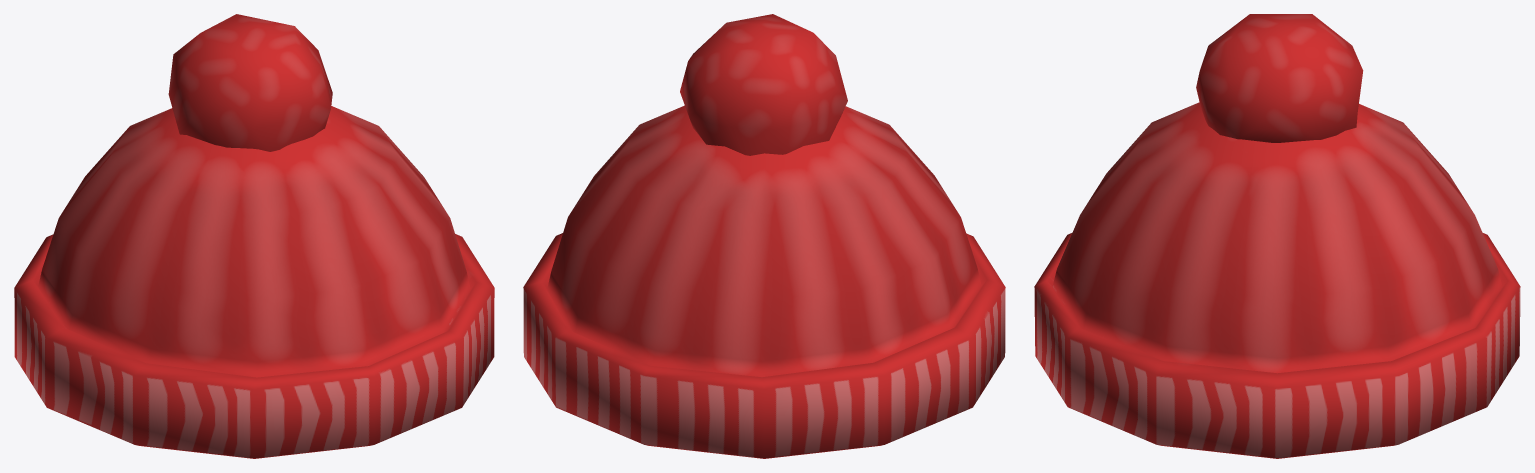
The picture shows the model from 3 angles, left to right: view 1: azimuth 30°, elevation 25°; view 2: azimuth 150°, elevation 25°; view 3: azimuth 270°, elevation 25°; orthographic projection.
Visible parts, largest first — view 1: GeoSphere001__zaaadefault_0; view 2: GeoSphere001__zaaadefault_0; view 3: GeoSphere001__zaaadefault_0.
Part boxes in pixels (<box>): GeoSphere001__zaaadefault_0: <box>14,14,494,458</box>; GeoSphere001__zaaadefault_0: <box>523,14,1005,458</box>; GeoSphere001__zaaadefault_0: <box>1034,14,1520,458</box>.
Bounding box in the file's own units: 52.93 × 40.62 × 53.04.
1 material, 1 textured.
